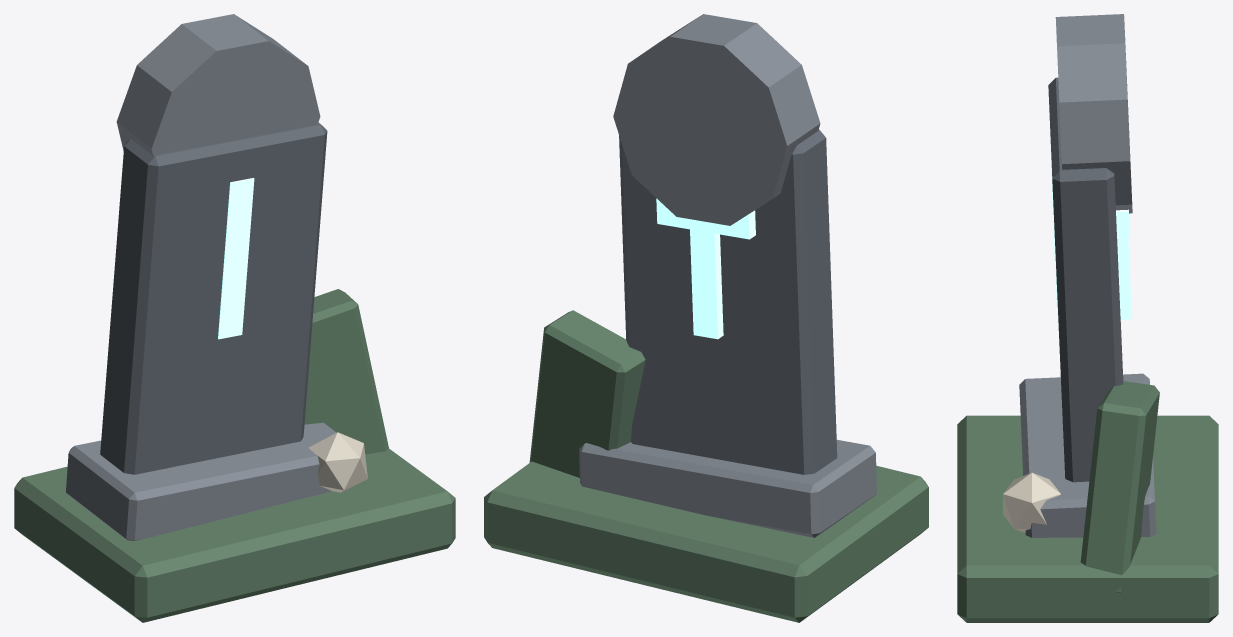
Rendered from outdoor_gravestone.glb.
The picture shows the model from 3 angles, left to right: view 1: azimuth 30°, elevation 25°; view 2: azimuth 150°, elevation 25°; view 3: azimuth 270°, elevation 25°; orthographic projection.
Visible parts, largest first — view 1: Outdoor_Gravestone; view 2: Outdoor_Gravestone; view 3: Outdoor_Gravestone.
Part boxes in pixels (x1,y1,x2,y2): Outdoor_Gravestone: (14,14,455,622); Outdoor_Gravestone: (484,14,928,622); Outdoor_Gravestone: (957,14,1218,622).
Bounding box in the file's own units: 1.62 × 2.48 × 1.13.
